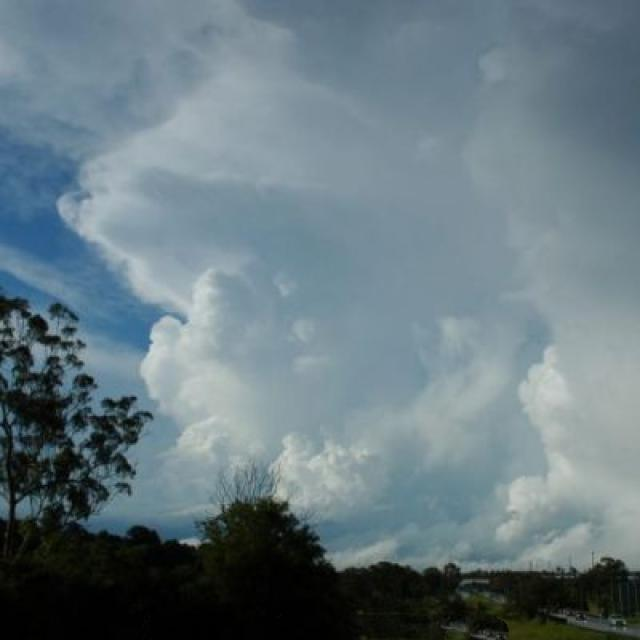Cb: (35, 17, 640, 392)
